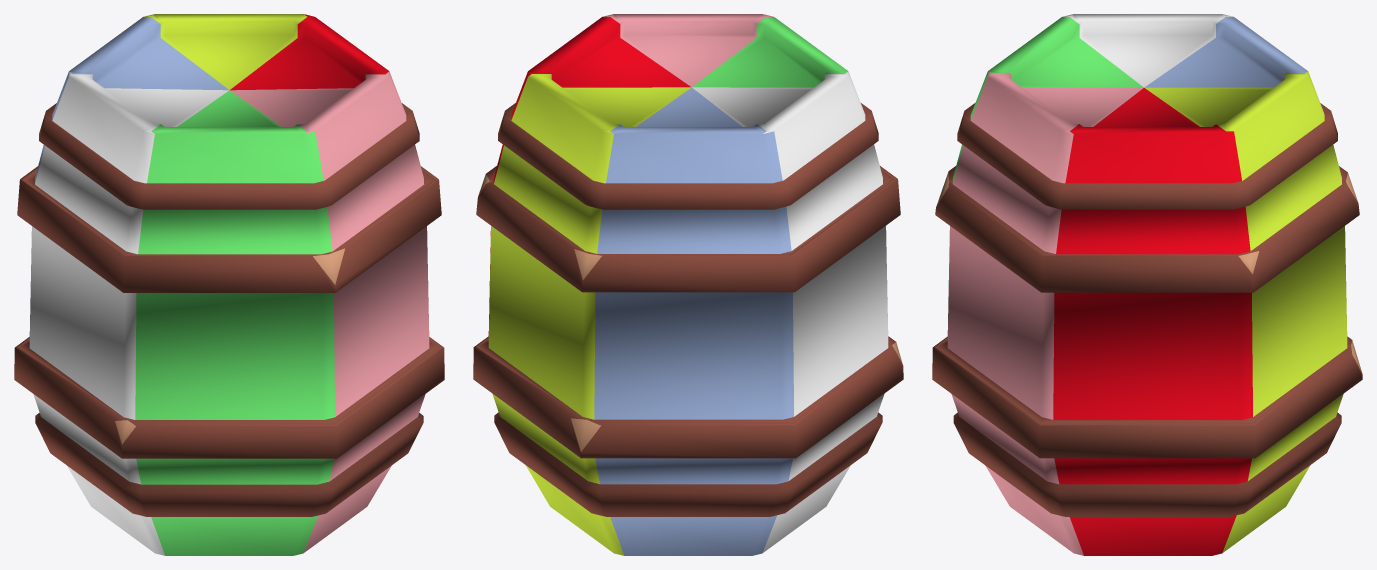
File: barrel marshmallow 5combi.fbx
3 renders of one model, left to right at view 1: azimuth 30°, elevation 25°; view 2: azimuth 150°, elevation 25°; view 3: azimuth 270°, elevation 25°, orthographic.
Parts seen in each view (by area): view 1: Cylinder; view 2: Cylinder; view 3: Cylinder.
Boxes of the visible parts, left/top/right/bottom form: Cylinder: left=14, top=14, right=444, bottom=555; Cylinder: left=473, top=14, right=903, bottom=555; Cylinder: left=932, top=14, right=1362, bottom=555.
Size of the model in its own units: 2.35 by 2.99 by 2.72.
